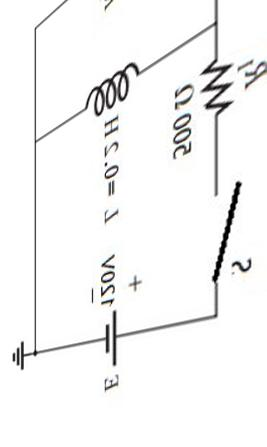inductor: (74, 45, 147, 117)
